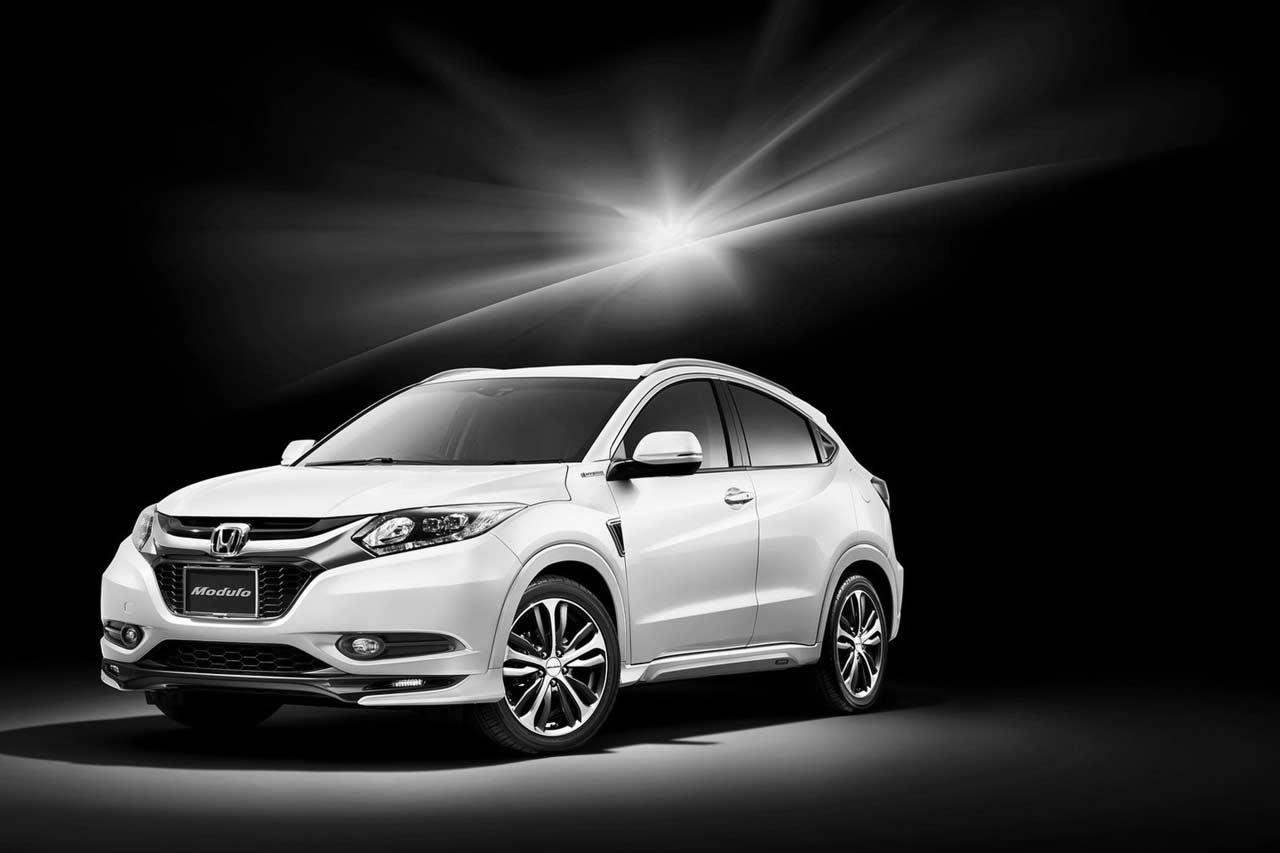Car hood: (149, 456, 573, 518)
Fender - -F-L-: (490, 449, 635, 681)
Fender - -R-L-: (823, 424, 896, 662)
Front bumper: (99, 532, 523, 714)
Headlight - -L-: (353, 499, 529, 559)
Headlight - -R-: (133, 497, 163, 560)
Passenger-s door - -F-L-: (604, 353, 760, 690)
Passenger-s door - -R-L-: (720, 353, 849, 687)
Side bumper - -L-: (614, 622, 829, 716)
Side mirror - -L-: (609, 430, 703, 489)
